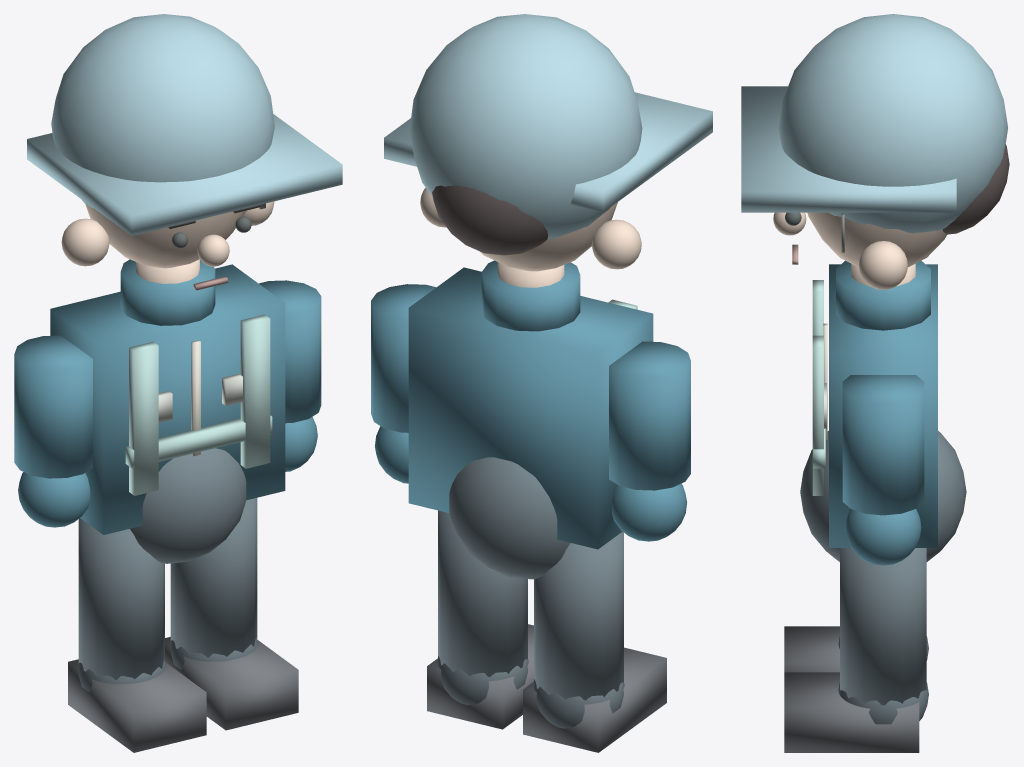
Rendered from mercy_person_00.glb.
The picture shows the model from 3 angles, left to right: view 1: azimuth 30°, elevation 25°; view 2: azimuth 150°, elevation 25°; view 3: azimuth 270°, elevation 25°; orthographic projection. The views are drawn at different scales.
Visible parts, largest first — view 1: SkinClothing_9, SkinClothing_0, Arm_Left, Leg_Left, SkinClothing_5, Leg_Right, SkinClothing_1, Boot_Left, SkinClothing_2, Boot_Right, Arm_Right, SkinClothing_4 (+1 smaller); view 2: SkinClothing_0, SkinClothing_9, Arm_Left, Leg_Left, Leg_Right, SkinClothing_1, Arm_Right, Boot_Left, SkinClothing_2, SkinClothing_7, Boot_Right; view 3: SkinClothing_9, SkinClothing_0, Arm_Right, Leg_Right, Boot_Right, SkinClothing_2, SkinClothing_1, SkinClothing_5, Boot_Left, SkinClothing_7.
Boxes of the visible parts, x1,y1,x2,y2 form: SkinClothing_9: (27, 14, 342, 235); SkinClothing_0: (50, 259, 285, 534); Arm_Left: (14, 335, 92, 527); Leg_Left: (78, 518, 165, 692); SkinClothing_5: (125, 314, 272, 495); Leg_Right: (170, 498, 257, 669); SkinClothing_1: (130, 448, 246, 563); Boot_Left: (68, 659, 206, 752); SkinClothing_2: (61, 201, 274, 283); Boot_Right: (165, 637, 298, 730); Arm_Right: (259, 280, 321, 471); SkinClothing_4: (158, 373, 242, 422); SkinClothing_0: (408, 260, 653, 549); SkinClothing_9: (384, 14, 712, 239); Arm_Left: (609, 341, 690, 541); Leg_Left: (533, 531, 624, 728); Leg_Right: (437, 510, 528, 705); SkinClothing_1: (449, 457, 570, 579); Arm_Right: (371, 284, 435, 483); Boot_Left: (523, 647, 666, 752); SkinClothing_2: (420, 187, 641, 287); SkinClothing_7: (432, 185, 547, 255); Boot_Right: (427, 624, 533, 729); SkinClothing_9: (741, 14, 1007, 233); SkinClothing_0: (829, 260, 937, 547); Arm_Right: (842, 375, 924, 565); Leg_Right: (838, 548, 928, 724); Boot_Right: (784, 672, 919, 752); SkinClothing_2: (773, 212, 946, 289); SkinClothing_1: (800, 431, 966, 561); SkinClothing_5: (812, 280, 825, 495); Boot_Left: (784, 626, 839, 672); SkinClothing_7: (942, 144, 1009, 234).
Size of the model in its own units: 1.12 by 2.43 by 0.8567.
